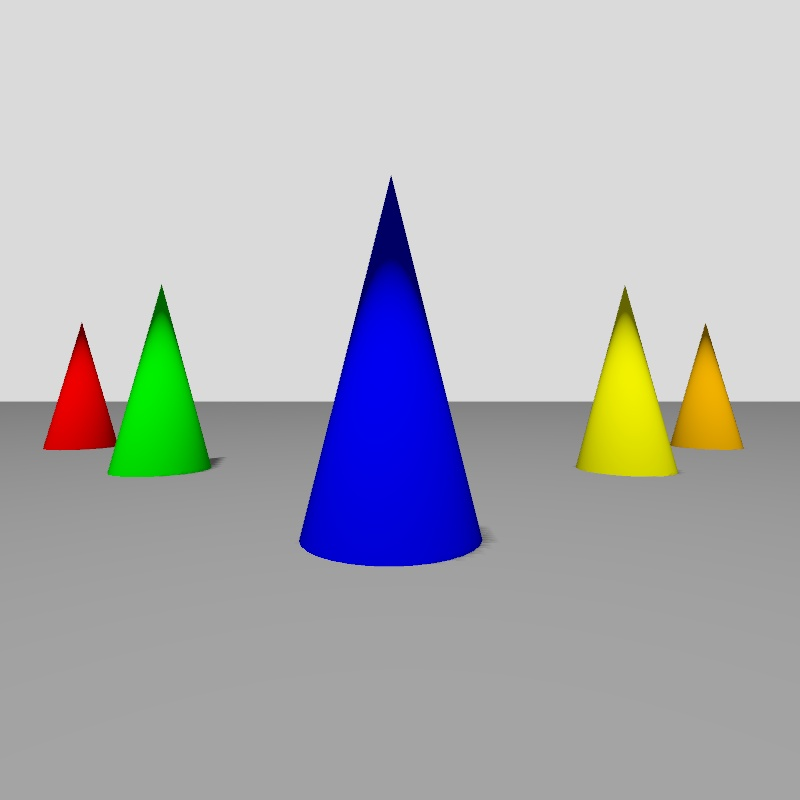Blue_cone: (300, 179, 481, 563)
Green_cone: (108, 286, 210, 476)
Orange_cone: (671, 326, 743, 450)
Red_cone: (44, 325, 114, 449)
Yellow_cone: (576, 288, 677, 476)
